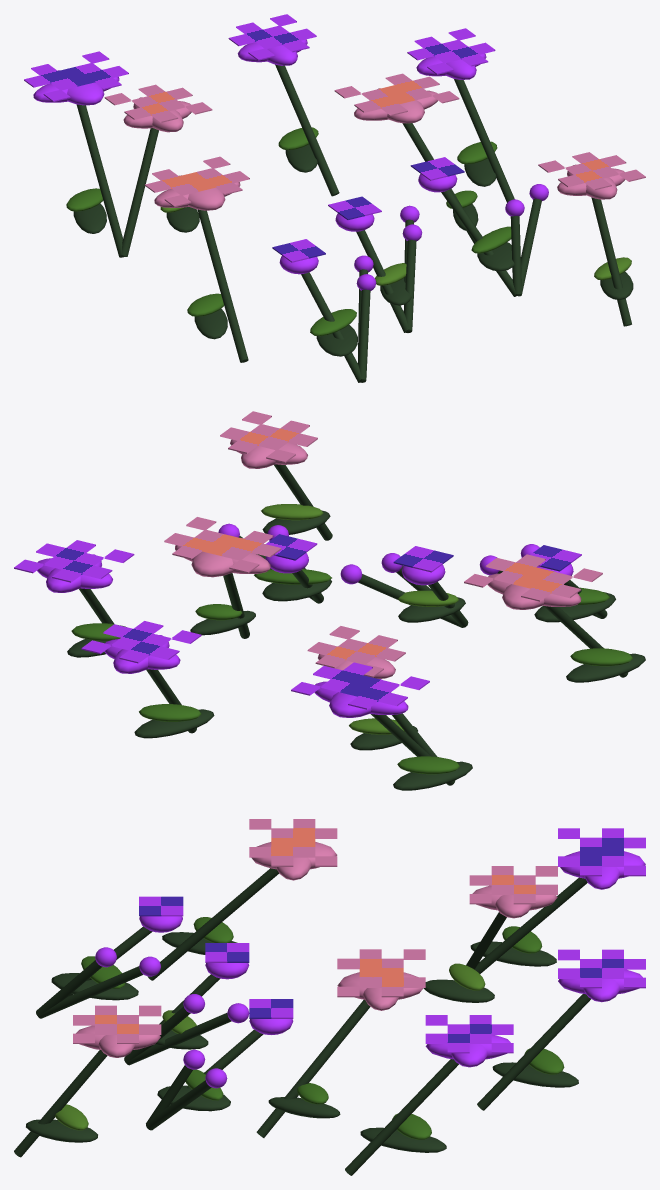
The model's file is CMU3DFlowerspv3.glb.
3 views of the same model, one above another, from view 1: azimuth 30°, elevation 25°; view 2: azimuth 150°, elevation 25°; view 3: azimuth 270°, elevation 25° (orthographic). The views are drawn at different scales.
Visible parts, largest first — view 1: bloom 5 original petal colors, bloom 1 original petal colors, bloom 6 original petal colors, bloom 2 original petal colors, bloom 15 original petal colors, bloom 3 original petal colors, bloom 4 original petal colors, bloom 6 branching stem, bloom 1 branching stem, bloom 2 branching stem, bloom 4 branching stem, bloom 3 branching stem (+27 smaller); view 2: bloom 5 original petal colors, bloom 1 original petal colors, bloom 6 original petal colors, bloom 4 original petal colors, bloom 2 original petal colors, bloom 15 original petal colors, bloom 3 original petal colors, foliage 6 low leaf, foliage 2 low leaf, foliage 1 low leaf, foliage 7 low leaf, bloom 8 original petal colors (+30 smaller); view 3: bloom 5 original petal colors, bloom 1 original petal colors, bloom 6 original petal colors, bloom 2 original petal colors, bloom 3 original petal colors, bloom 4 original petal colors, bloom 15 original petal colors, bloom 2 branching stem, bloom 4 branching stem, bloom 6 branching stem, bloom 5 branching stem, bloom 1 branching stem (+45 smaller).
Boxes of the visible parts, left/top/right/bottom form: bloom 5 original petal colors: left=334, top=73, right=459, bottom=115; bloom 1 original petal colors: left=24, top=51, right=128, bottom=101; bloom 6 original petal colors: left=144, top=156, right=249, bottom=207; bloom 2 original petal colors: left=228, top=14, right=316, bottom=60; bloom 15 original petal colors: left=538, top=152, right=645, bottom=190; bloom 3 original petal colors: left=104, top=84, right=212, bottom=122; bloom 4 original petal colors: left=407, top=28, right=495, bottom=74; bloom 6 branching stem: left=197, top=209, right=248, bottom=362; bloom 1 branching stem: left=76, top=104, right=124, bottom=257; bloom 2 branching stem: left=275, top=64, right=339, bottom=196; bloom 4 branching stem: left=454, top=79, right=514, bottom=202; bloom 3 branching stem: left=121, top=128, right=158, bottom=256; bloom 5 original petal colors: left=164, top=517, right=281, bottom=573; bloom 1 original petal colors: left=291, top=662, right=429, bottom=709; bloom 6 original petal colors: left=464, top=554, right=602, bottom=601; bloom 4 original petal colors: left=14, top=540, right=134, bottom=582; bloom 2 original petal colors: left=81, top=621, right=201, bottom=663; bloom 15 original petal colors: left=220, top=411, right=317, bottom=462; bloom 3 original petal colors: left=307, top=626, right=405, bottom=677; foliage 6 low leaf: left=566, top=653, right=645, bottom=682; foliage 2 low leaf: left=393, top=761, right=472, bottom=790; foliage 1 low leaf: left=134, top=709, right=214, bottom=738; foliage 7 low leaf: left=262, top=579, right=331, bottom=601; bloom 8 original petal colors: left=393, top=546, right=453, bottom=572; bloom 5 original petal colors: left=337, top=949, right=425, bottom=997; bloom 1 original petal colors: left=558, top=828, right=645, bottom=876; bloom 6 original petal colors: left=249, top=819, right=337, bottom=866; bloom 2 original petal colors: left=558, top=949, right=645, bottom=988; bloom 3 original petal colors: left=469, top=866, right=557, bottom=904; bloom 4 original petal colors: left=425, top=1015, right=513, bottom=1053; bloom 15 original petal colors: left=73, top=1005, right=161, bottom=1043; bloom 2 branching stem: left=477, top=994, right=590, bottom=1110; bloom 4 branching stem: left=345, top=1059, right=458, bottom=1175; bloom 6 branching stem: left=147, top=868, right=279, bottom=980; bloom 5 branching stem: left=256, top=999, right=370, bottom=1137; bloom 1 branching stem: left=474, top=877, right=587, bottom=973.
Bounding box in the file's own units: 0.7602 × 0.2309 × 0.8962.
12 materials, 7 textured.
